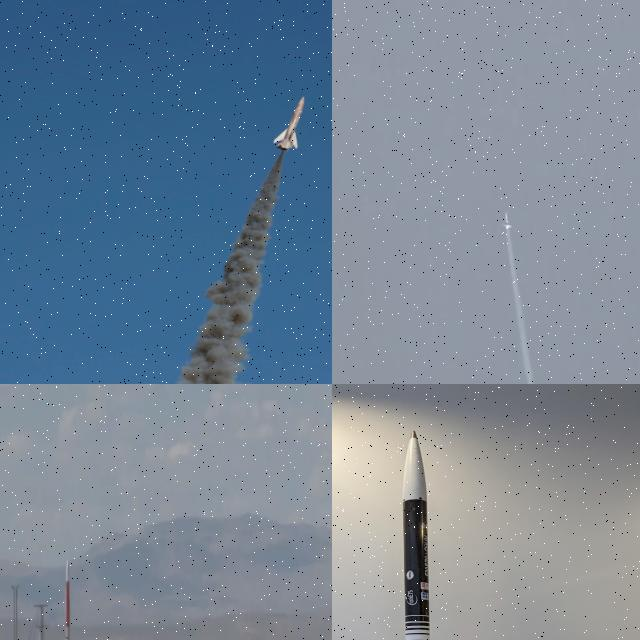Rocket: (402, 430, 430, 640), (272, 96, 306, 152), (62, 560, 72, 640), (504, 213, 510, 229)
